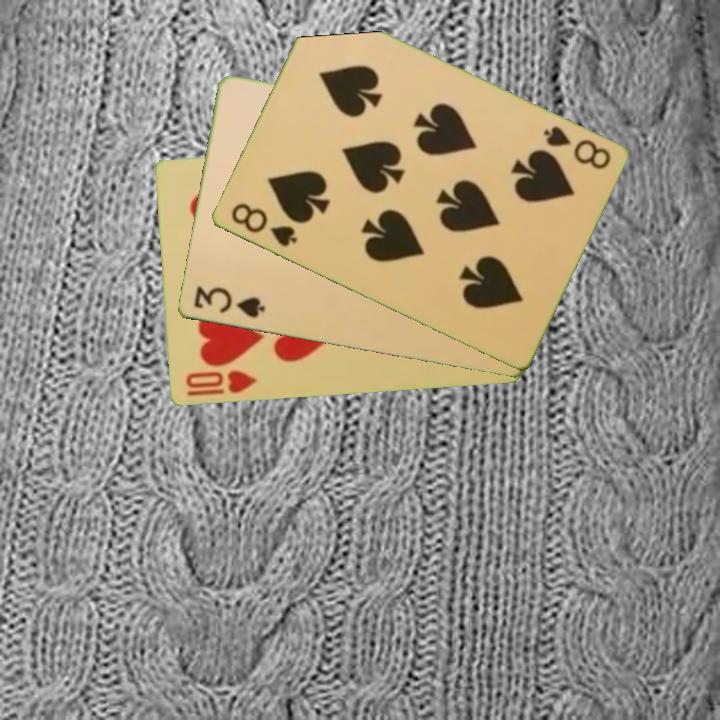10h: (181, 367, 259, 400)
3s: (190, 283, 268, 322)
8s: (227, 199, 300, 251), (539, 122, 613, 173)
